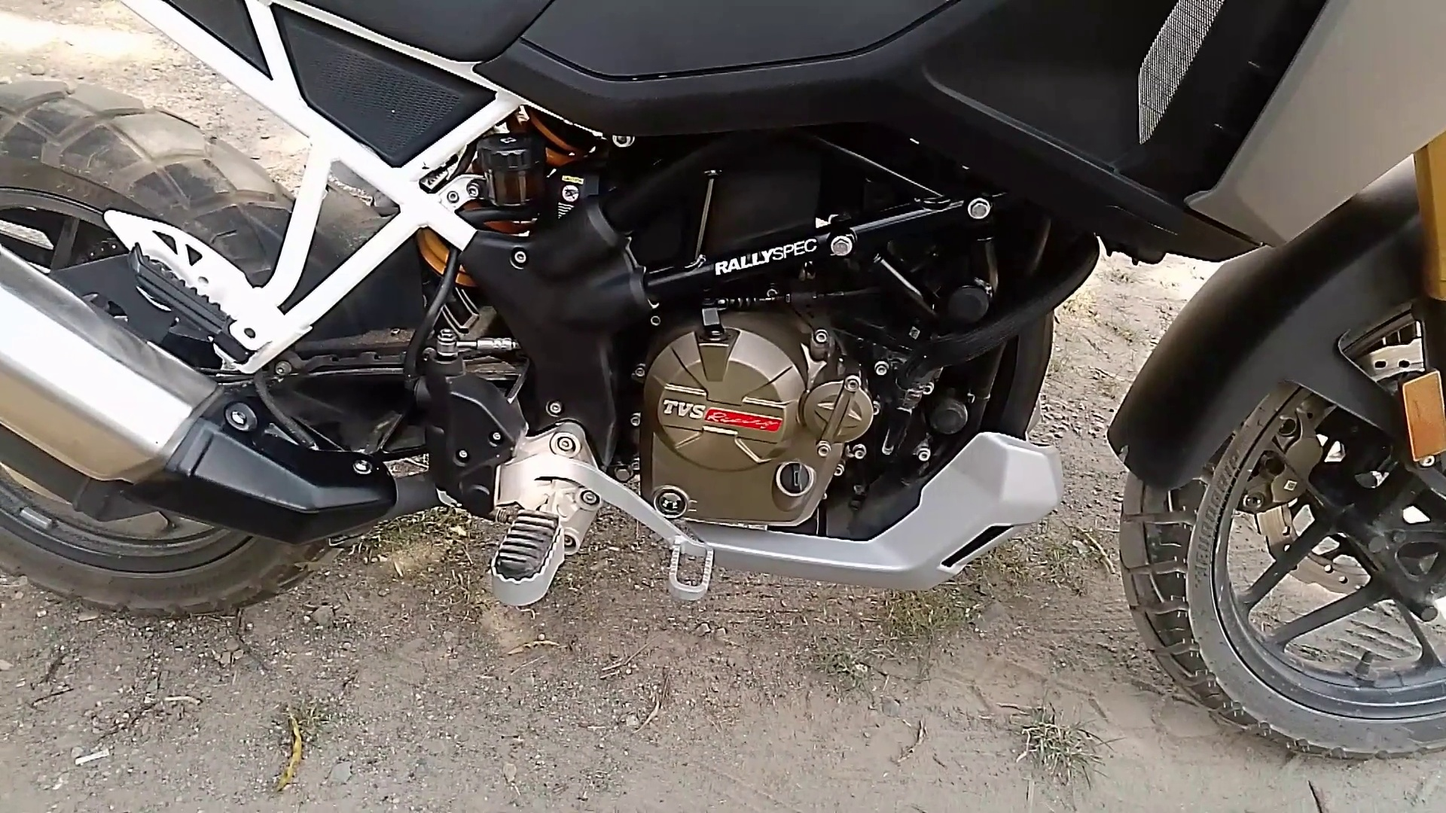engine: (618, 190, 879, 574)
oil_cap: (766, 440, 823, 508)
oil_marker: (650, 482, 699, 523)
